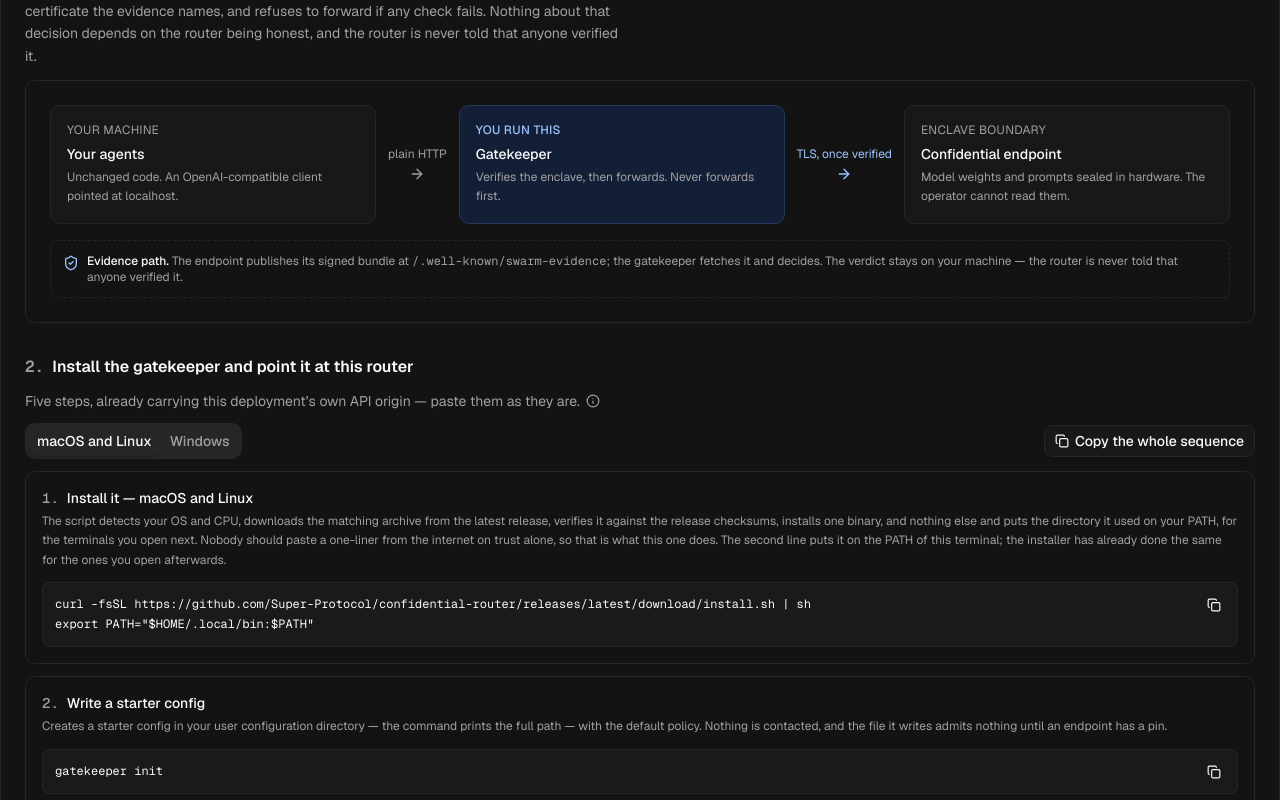
APIKeysScreen › How to connect › keeps each step’s lead to one line, with the rest behind a ⓘ
The width and height of the screenshot is (1280, 800).
(page scrolled)
expect the text "Five steps, already carrying this deployment" is shown: met, box [25, 392, 580, 410]
Click the button named "About these commands": click(593, 401) [586, 394, 600, 408]
(page scrolled)
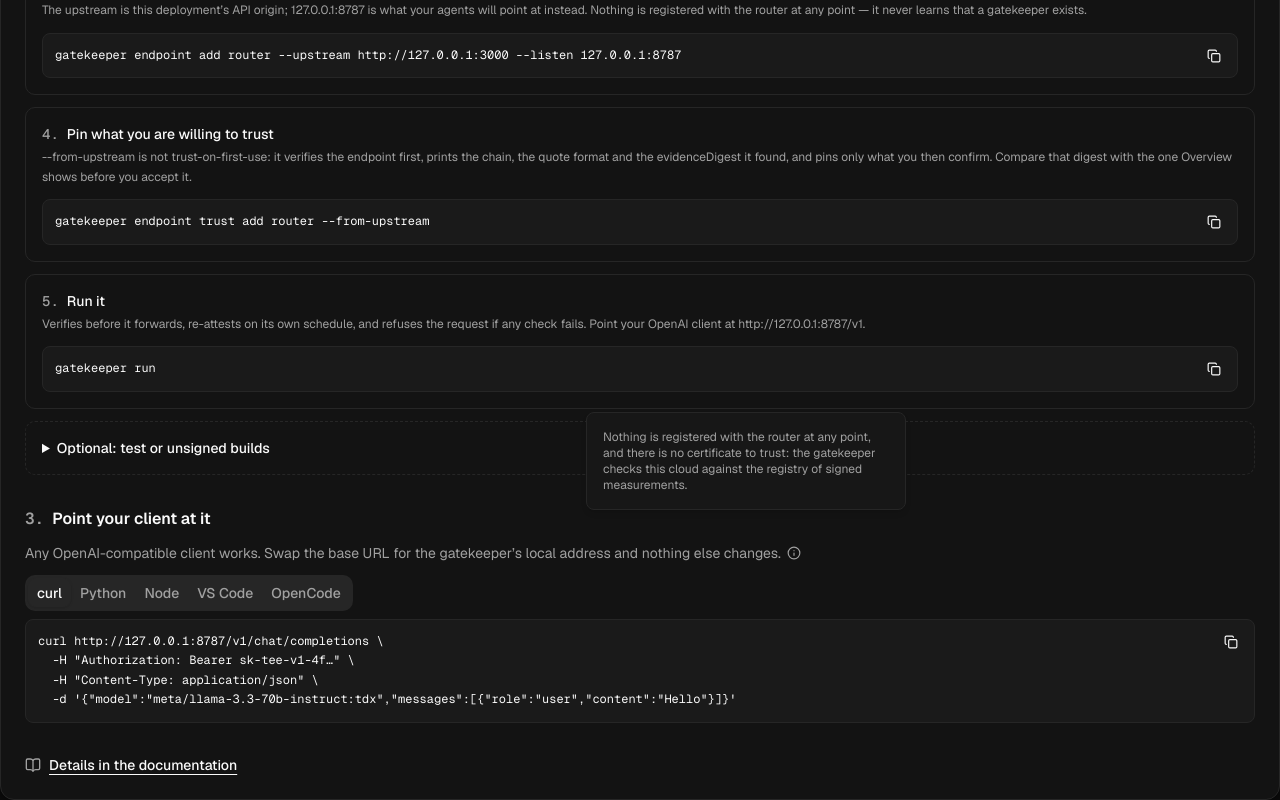
expect the text "Keys are stored hashed" is not shown: met
expect the text "there is no certificate to trust" is shown: met, box [603, 429, 876, 493]
Click the button named "About the key in this snippet": click(794, 553) [787, 546, 801, 560]
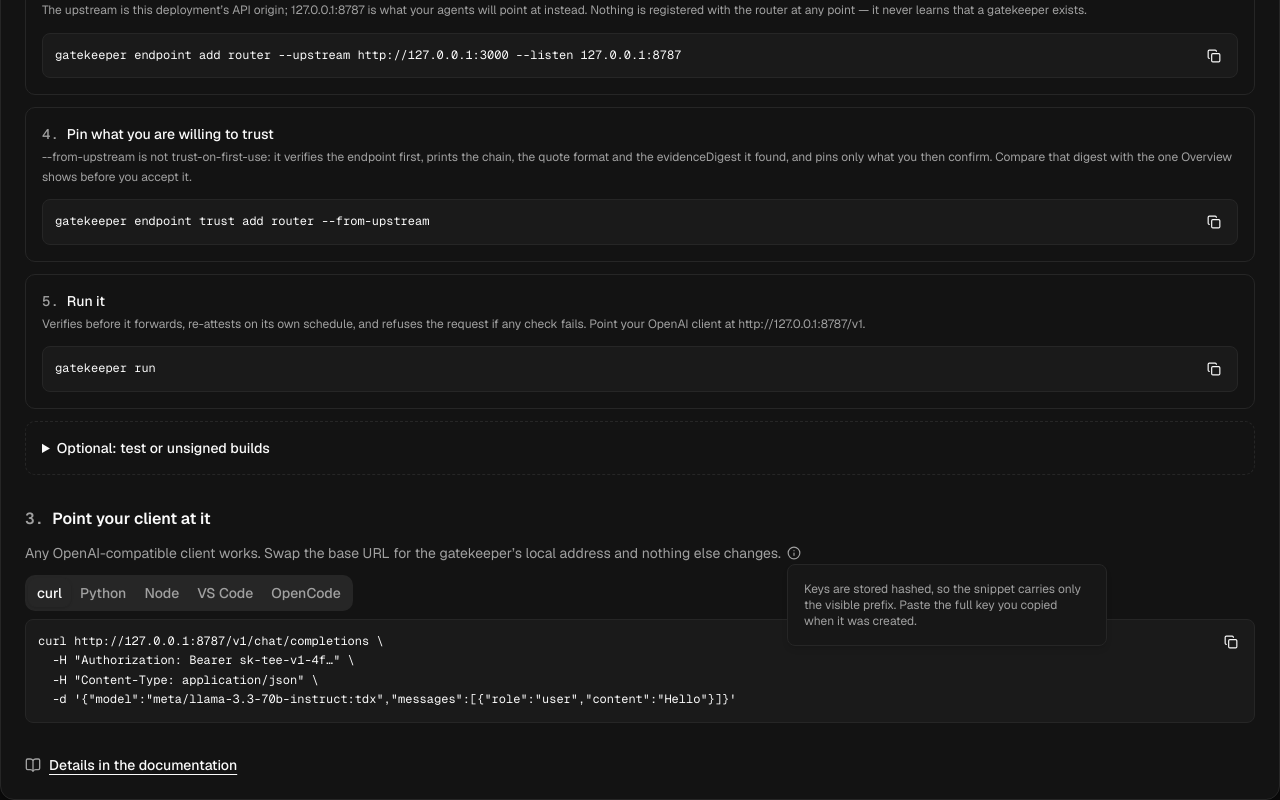
expect the text "Keys are stored hashed" is shown: met, box [804, 581, 1081, 629]
